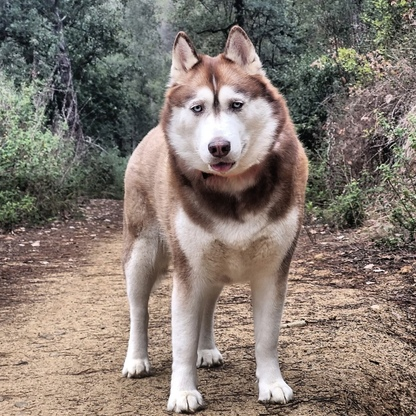husky: (112, 21, 316, 416)
